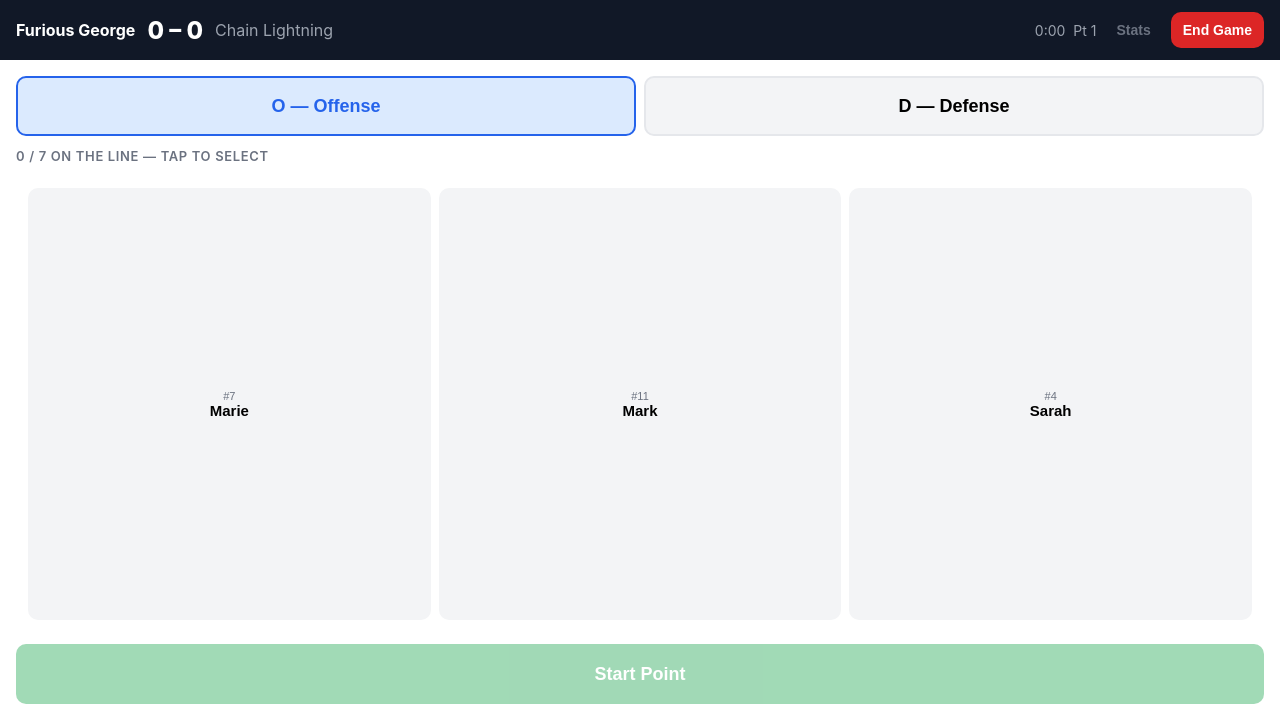
GamePage — lineup phase › Start Point enables after selecting a player
Click the button "#7 Marie".
click(229, 404)  # box [28,188,431,620]
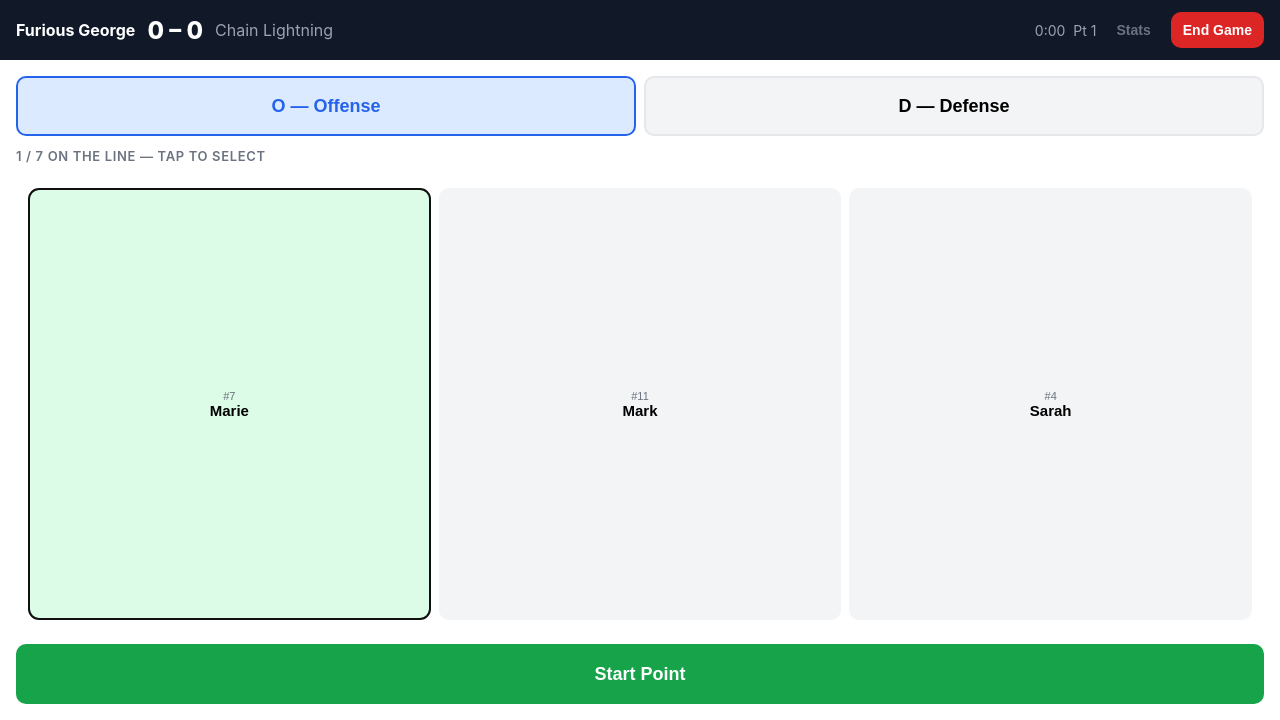
Expected: the button "Start Point" is enabled, [16,644,1264,704]
